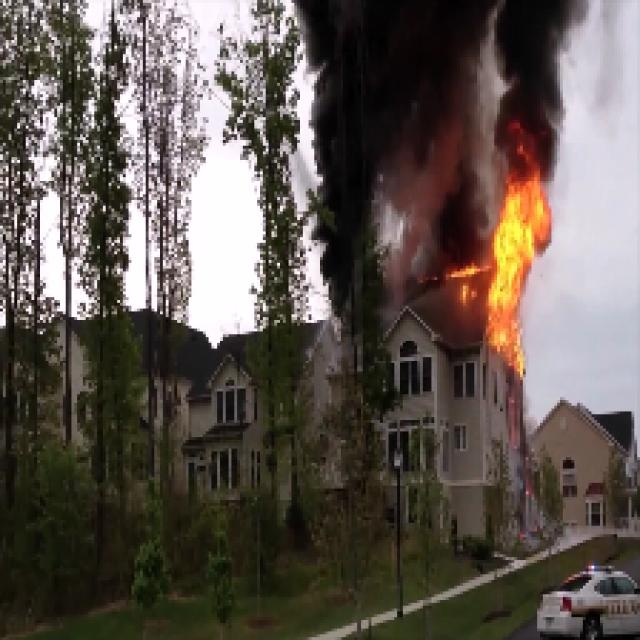fire: (493, 184, 543, 359)
smoke: (334, 5, 474, 265), (501, 5, 558, 159)
